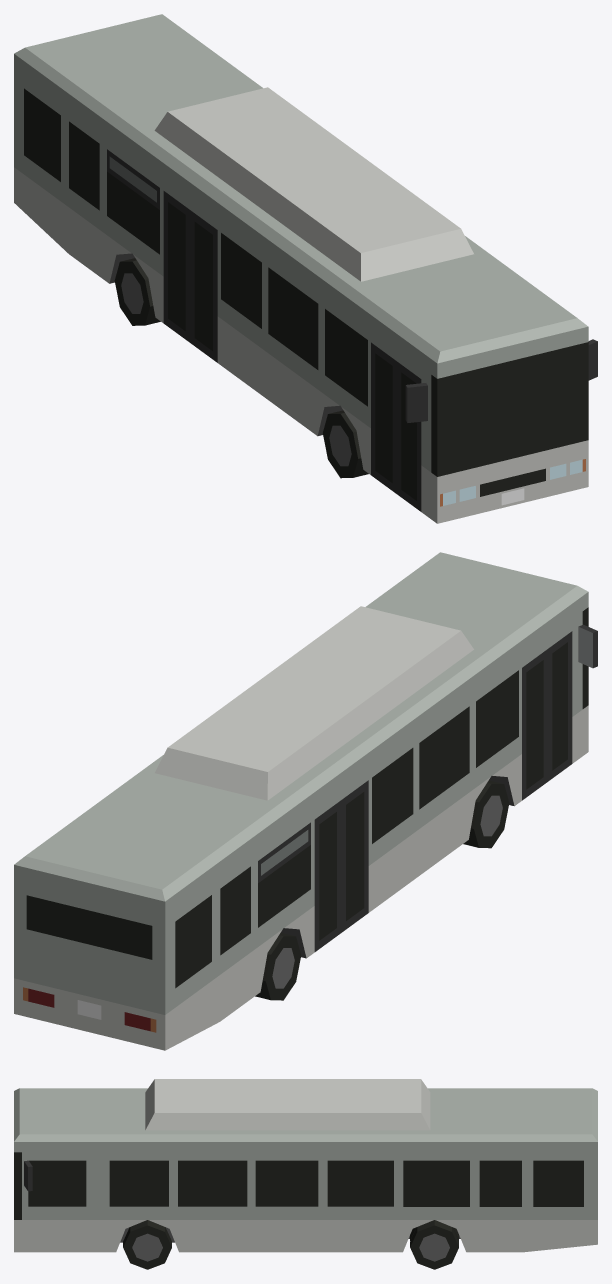
File: Veh_Bus_01_White.obj
3 views of the same model, one above another, from view 1: azimuth 30°, elevation 25°; view 2: azimuth 150°, elevation 25°; view 3: azimuth 270°, elevation 25° (orthographic). The views are drawn at different scales.
Size of the model in its own units: 1.7 by 1.83 by 6.53.
